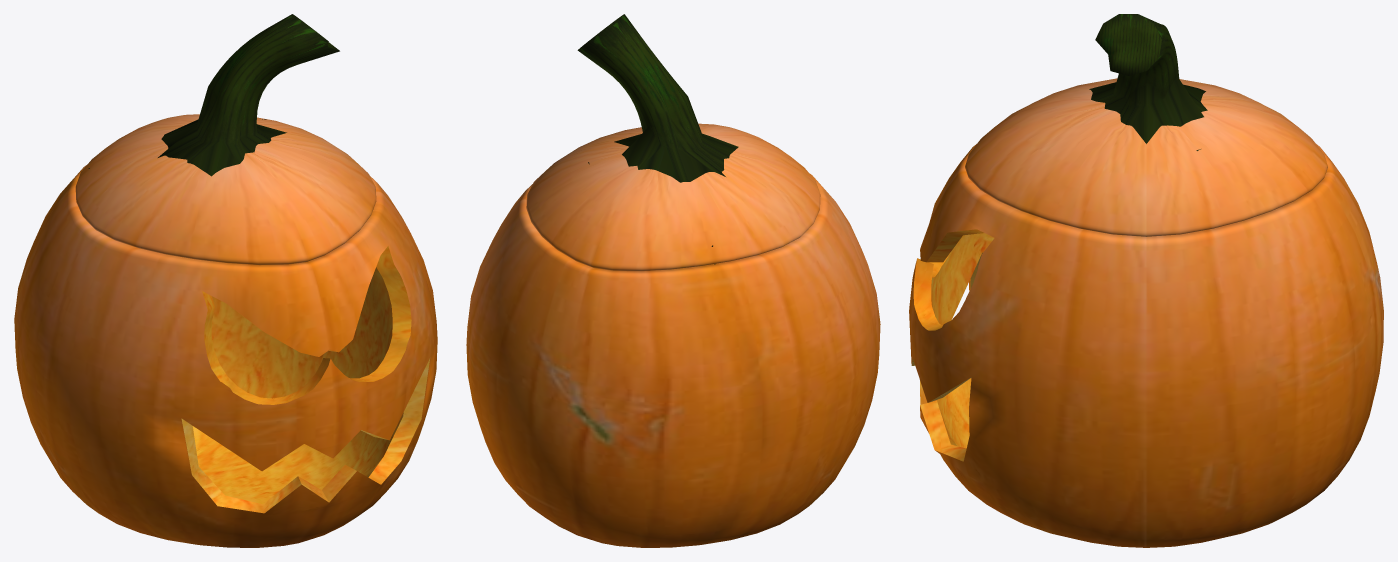
File: pumpkin1.glb
3 renders of one model, left to right at view 1: azimuth 30°, elevation 25°; view 2: azimuth 150°, elevation 25°; view 3: azimuth 270°, elevation 25°, orthographic. The views are drawn at different scales.
Parts seen in each view (by area): view 1: front_pumpkin_body; view 2: front_pumpkin_body; view 3: front_pumpkin_body.
Boxes of the visible parts, x1,y1,x2,y2 form: front_pumpkin_body: (14,14,437,547); front_pumpkin_body: (466,14,880,547); front_pumpkin_body: (909,14,1383,547).
Size of the model in its own units: 7.53 by 9.43 by 7.76.
Materials: 4 (4 with a texture image).
